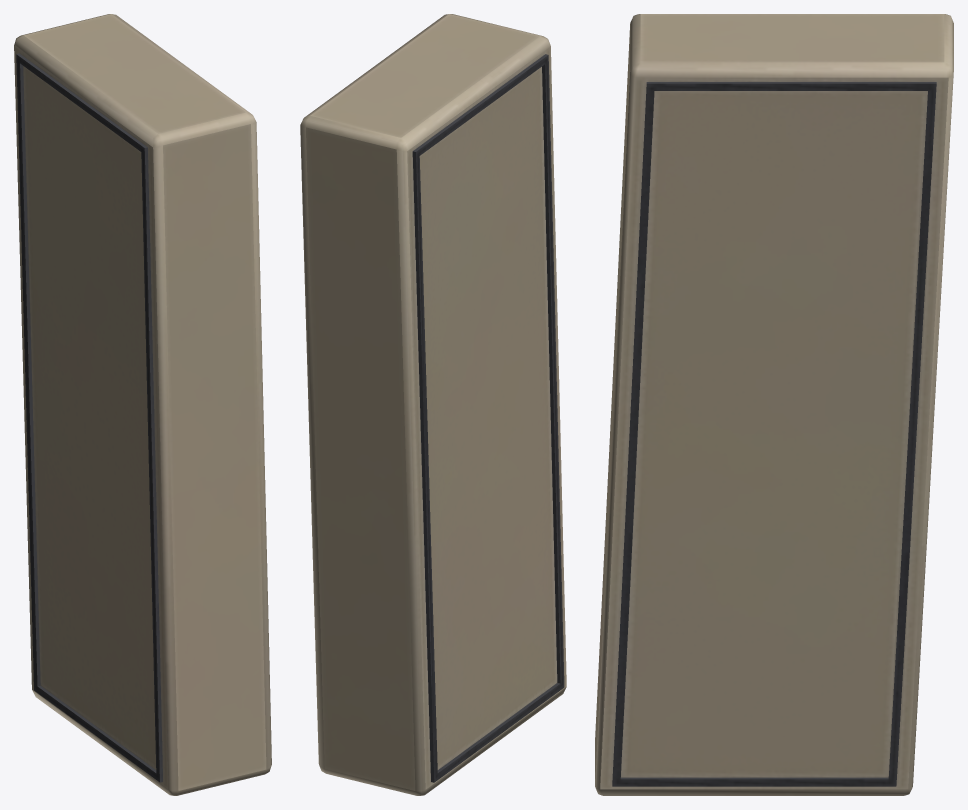
Rendered from AT_MX4Mag.fbx.
The picture shows the model from 3 angles, left to right: view 1: azimuth 30°, elevation 25°; view 2: azimuth 150°, elevation 25°; view 3: azimuth 270°, elevation 25°; orthographic projection. The views are drawn at different scales.
Visible parts, largest first — view 1: AT_MX4Mag_export; view 2: AT_MX4Mag_export; view 3: AT_MX4Mag_export.
Boxes of the visible parts, x1,y1,x2,y2 form: AT_MX4Mag_export: (14,14,271,795); AT_MX4Mag_export: (300,14,566,795); AT_MX4Mag_export: (595,14,953,795).
Bounding box in the file's own units: 0.0212 × 0.0532 × 0.1201.
